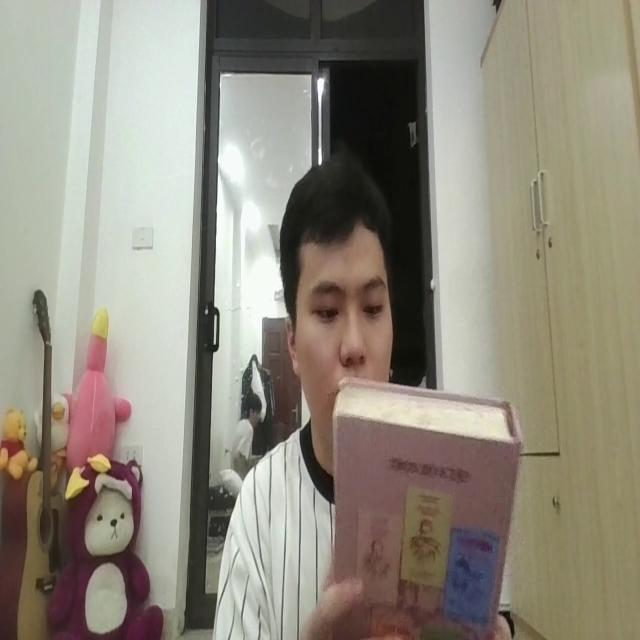book: (333, 368, 521, 640)
student: (204, 154, 418, 632)
